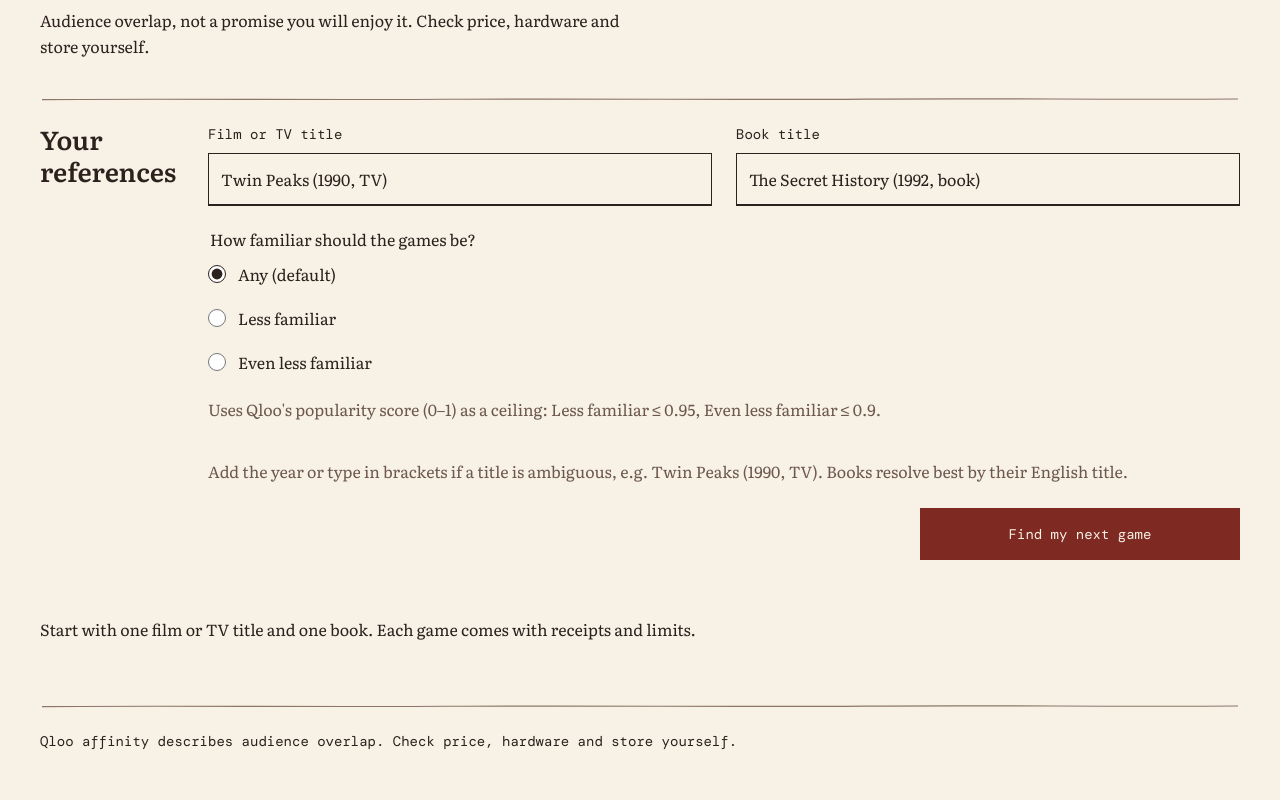
Test: shows the network error
The width and height of the screenshot is (1280, 800).
(page scrolled)
Click the button "Find my next game".
click(1080, 534)  # box x1=920 y1=508 x2=1240 y2=560
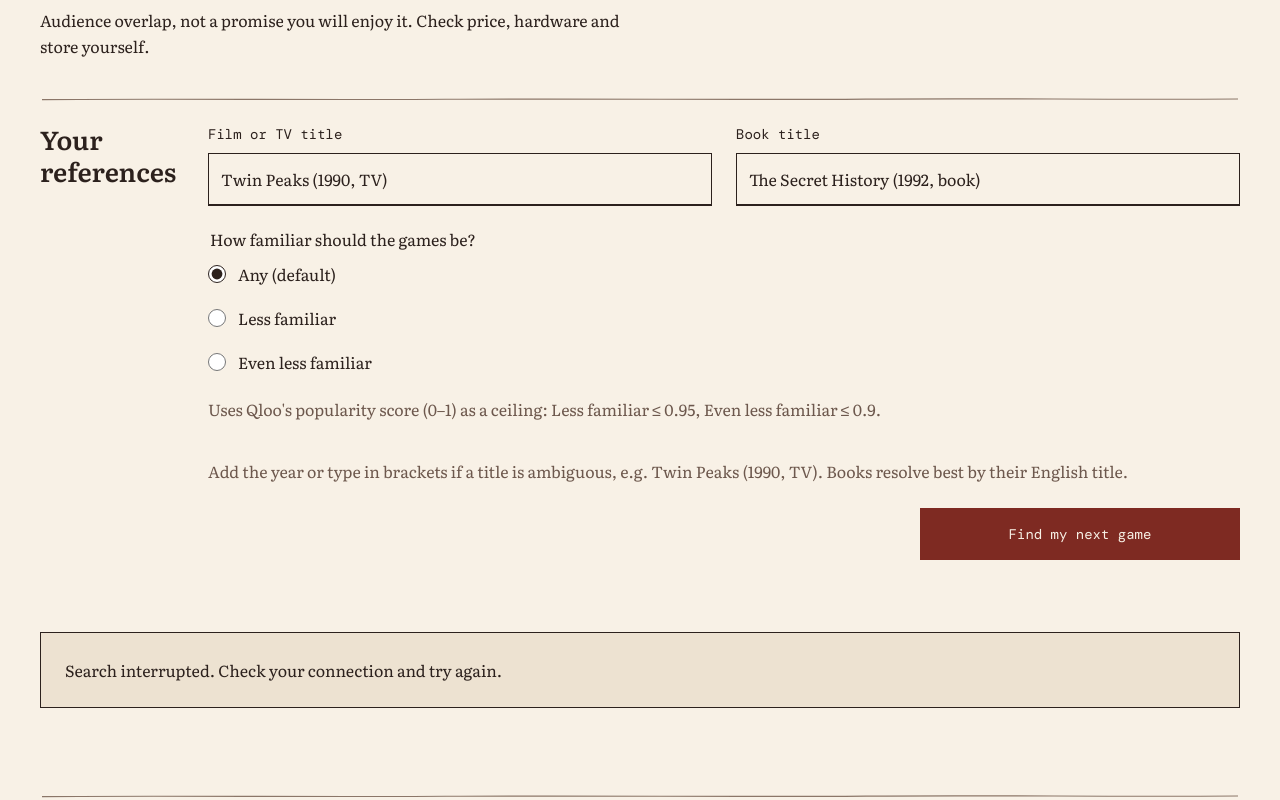
expect the message reads "Search interrupted. Check your connection and try again.": met, box x1=65 y1=658 x2=502 y2=682
